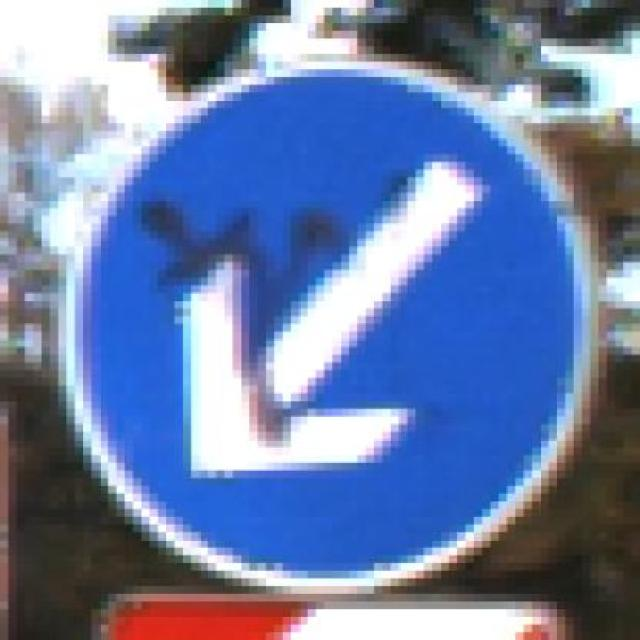Keep-Left: (50, 46, 624, 594)
